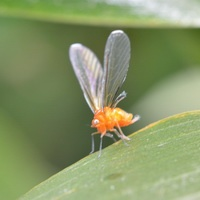insect: (69, 30, 139, 156)
